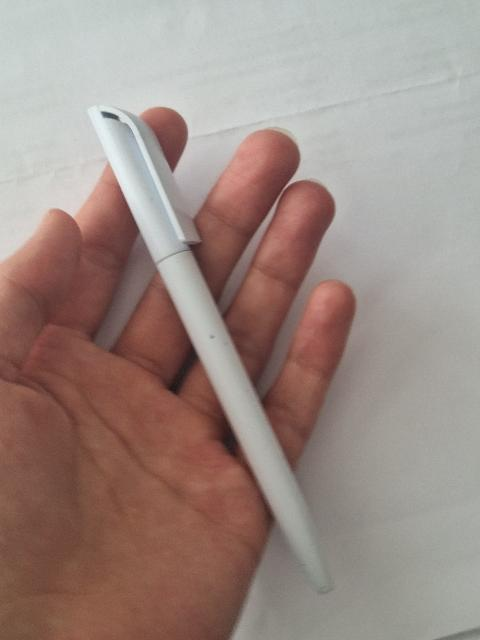writing_tool: (83, 104, 335, 595)
